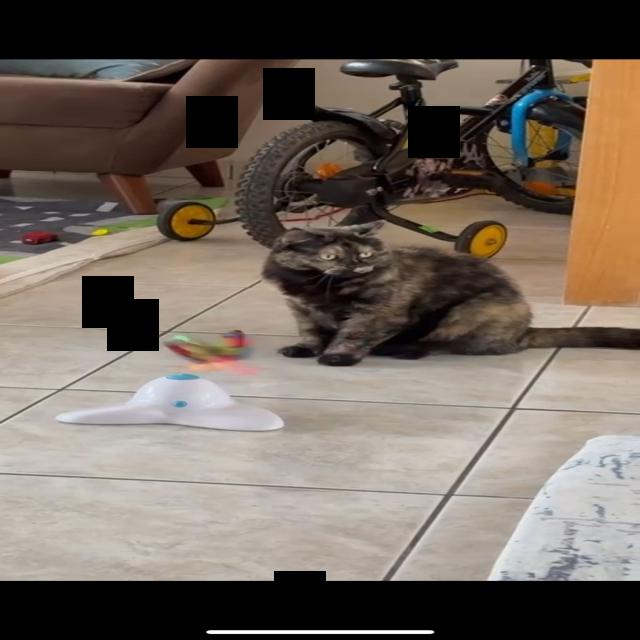authorized: (259, 218, 639, 366)
